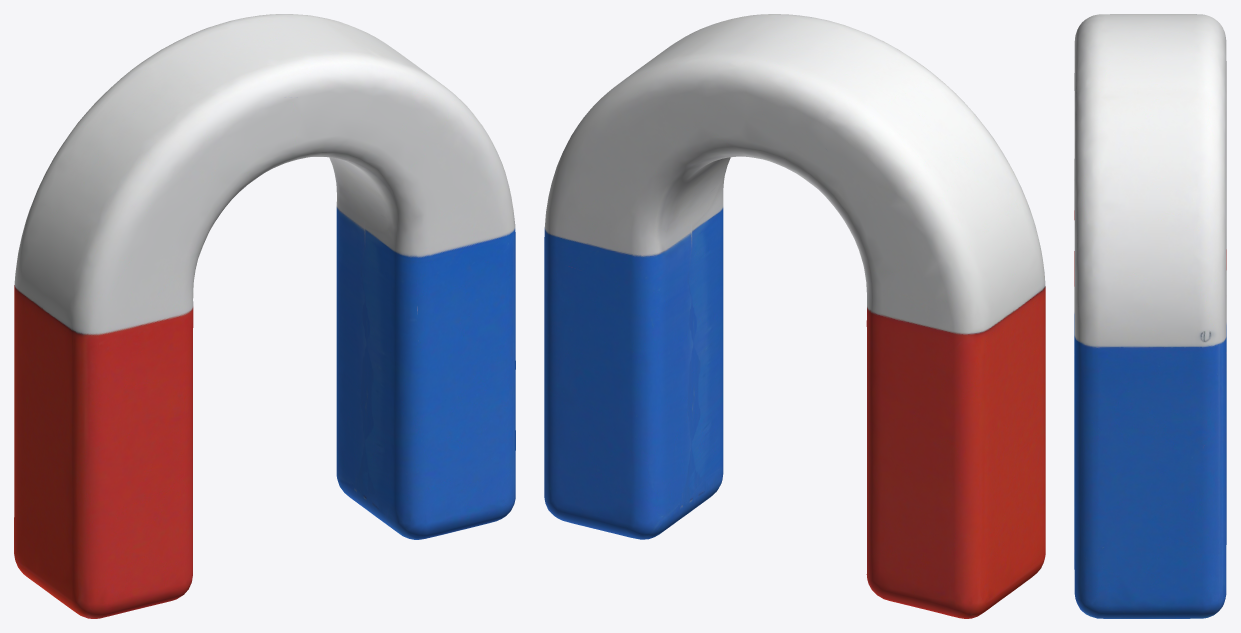
File: magnet.glb
The picture shows the model from 3 angles, left to right: view 1: azimuth 30°, elevation 25°; view 2: azimuth 150°, elevation 25°; view 3: azimuth 270°, elevation 25°; orthographic projection. The views are drawn at different scales.
Bounding box in the file's own units: 1.82 × 2 × 0.5675.
Materials: 1 (1 with a texture image).
